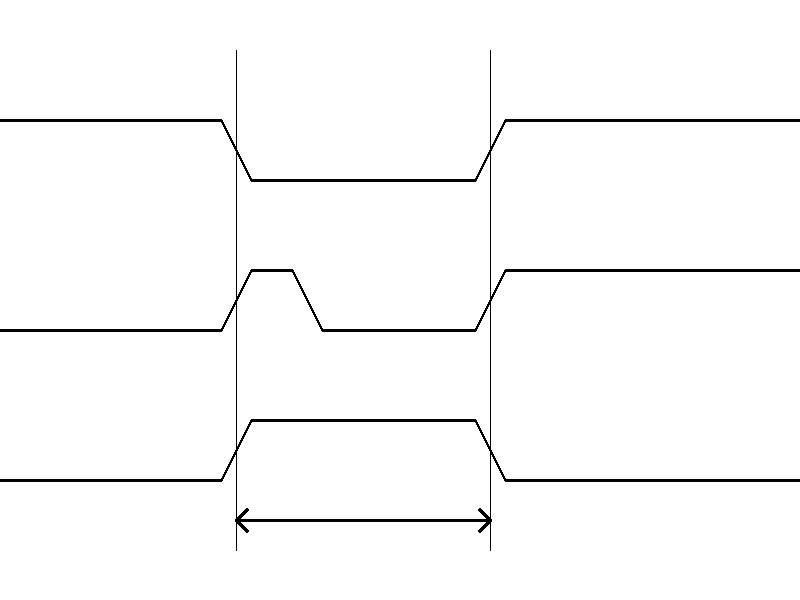double_arrow: (236, 505, 490, 535)
